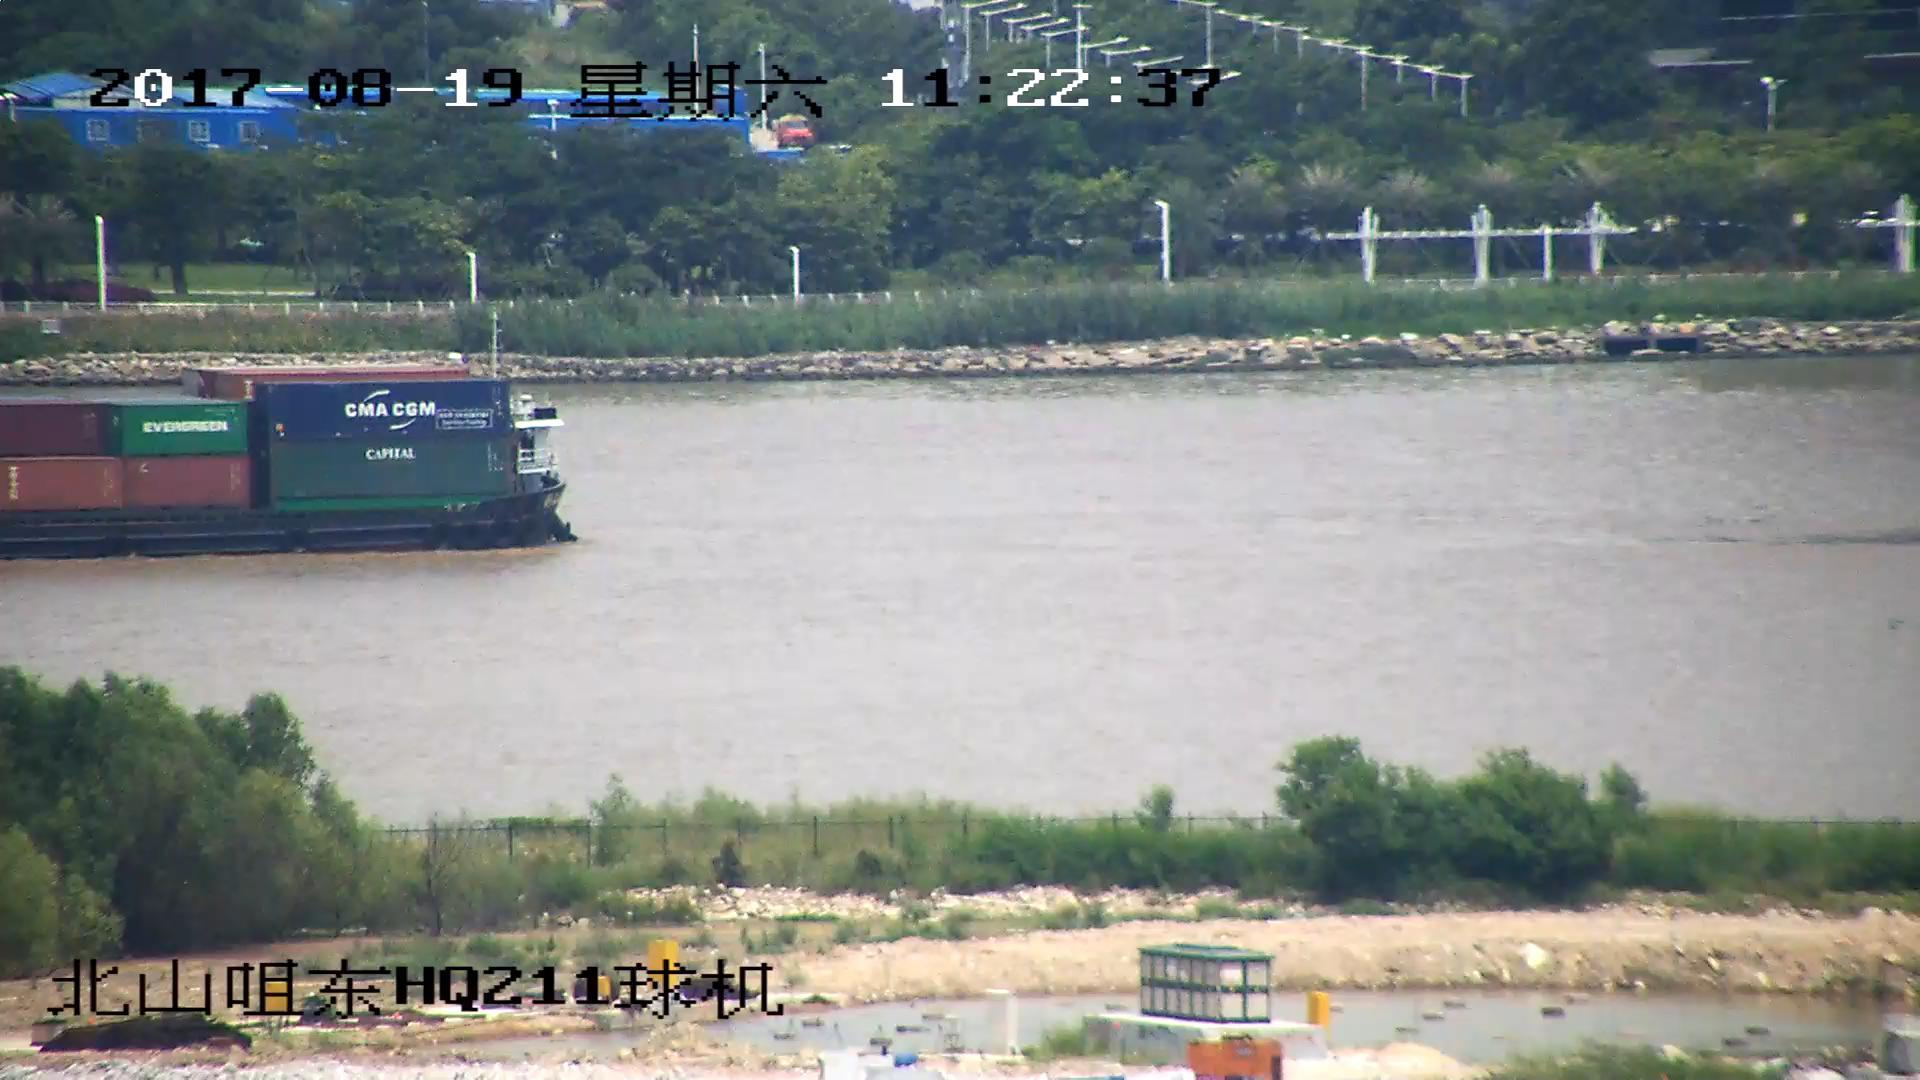Ship: (3, 313, 579, 556)
